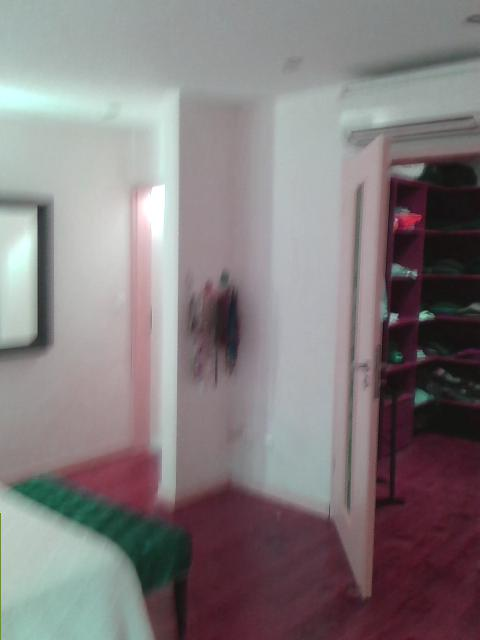semi_door: (327, 114, 479, 600)
